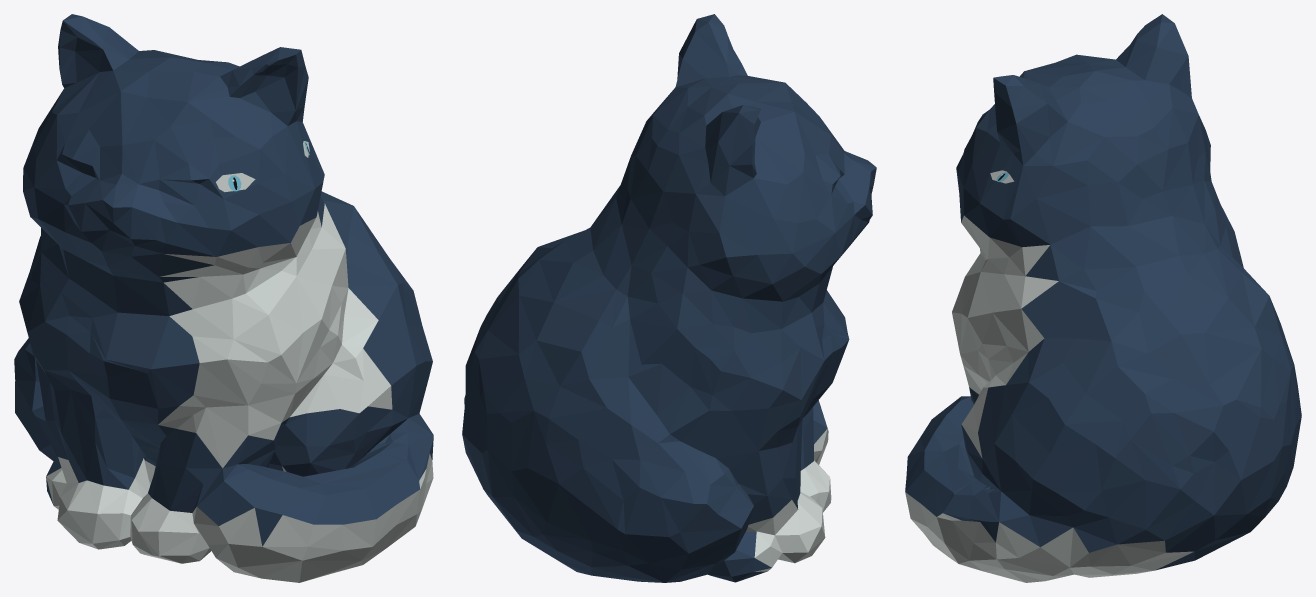
Rendered from cat.glb.
3 views of the same model, side by side, from view 1: azimuth 30°, elevation 25°; view 2: azimuth 150°, elevation 25°; view 3: azimuth 270°, elevation 25° (orthographic). The views are drawn at different scales.
Parts seen in each view (by area): view 1: cat, CharacterFaceDetails; view 2: cat; view 3: cat.
Boxes of the visible parts, <box> form: cat: <box>14,14,433,582</box>; CharacterFaceDetails: <box>216,141,309,191</box>; cat: <box>462,14,876,582</box>; cat: <box>905,14,1301,582</box>.
Bounding box in the file's own units: 0.4346 × 0.58 × 0.4478.
